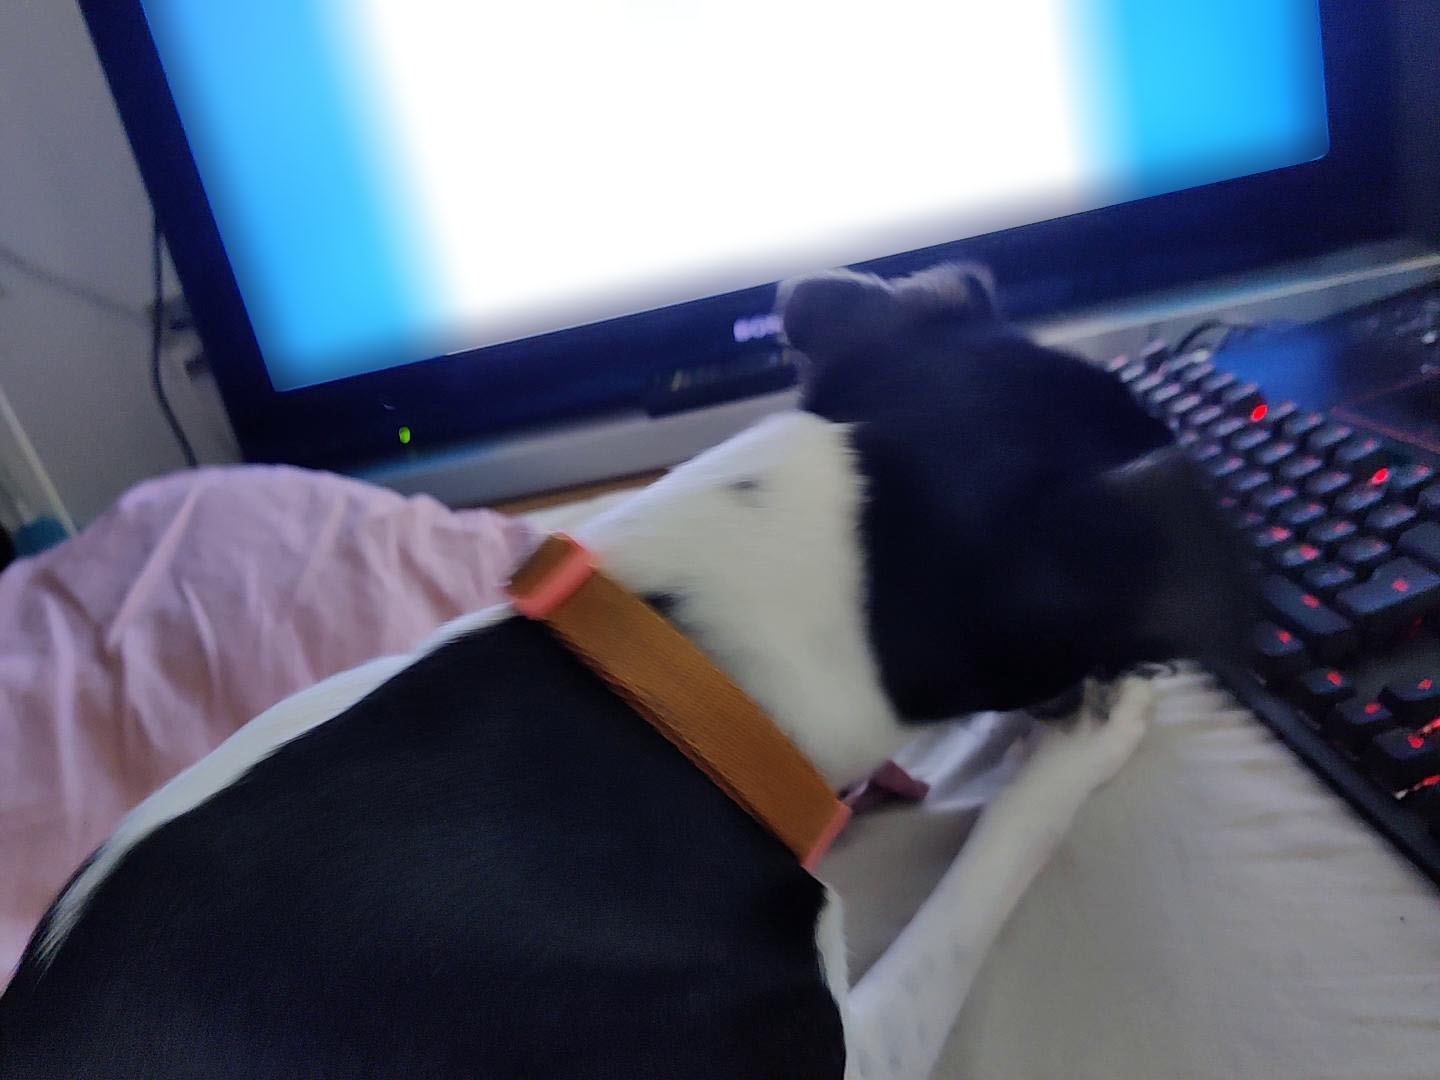Dog: (0, 258, 1281, 1079)
